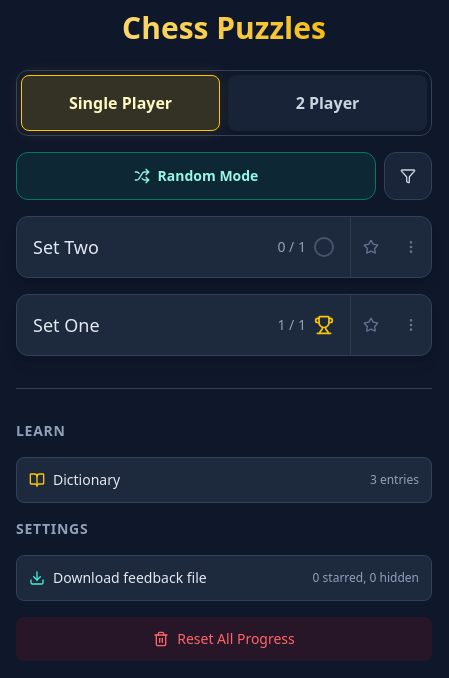
Test: App unit tests by area › Homepage › stars a category as favorite and promotes it above normal order
Click the button with test id "favorite-category-set-one" at (371, 325), box [351,295,391,355]
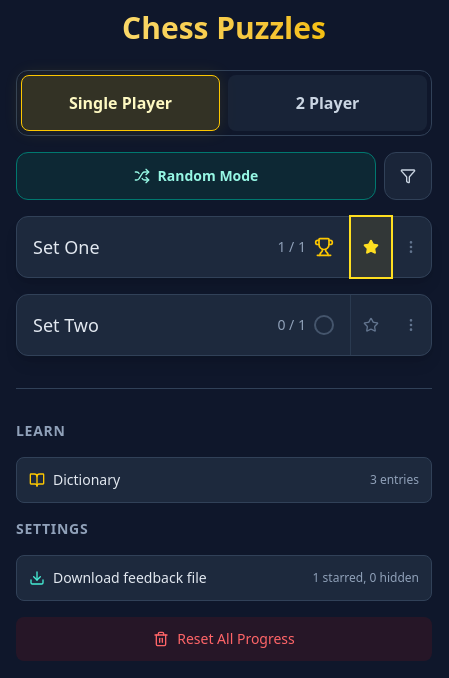
Expected: the text "1 starred, 0 hidden" is shown, [313,570,419,586]
